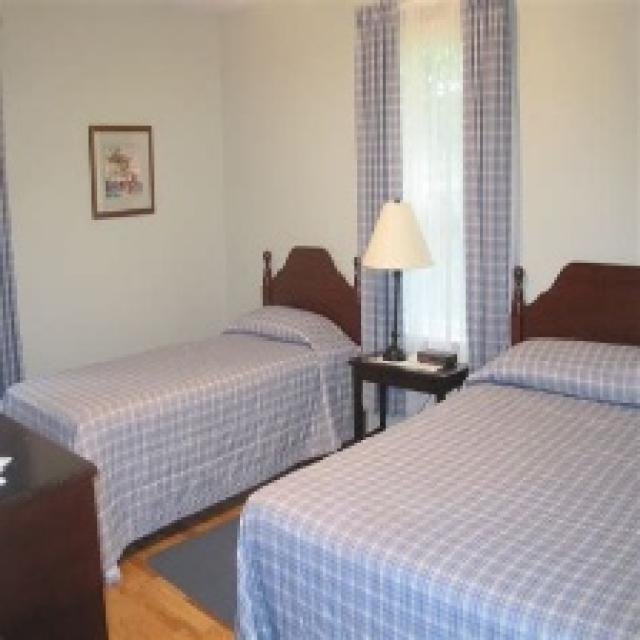Bed: (232, 260, 637, 637), (0, 243, 363, 583)
